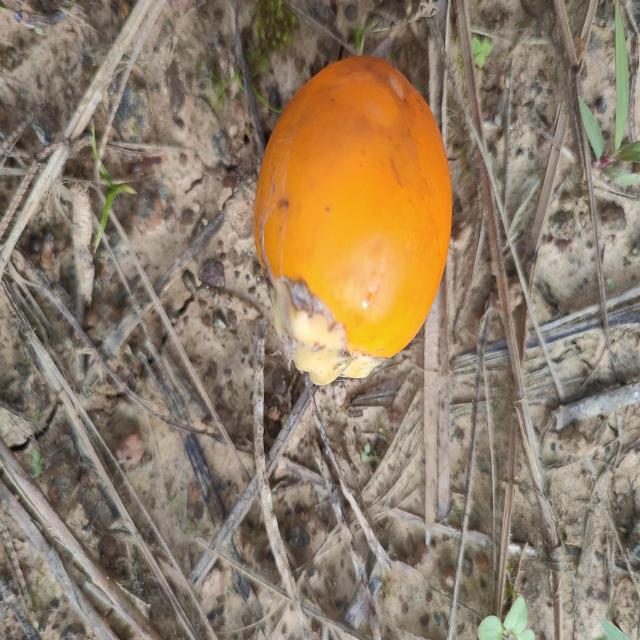good: (252, 57, 453, 386)
